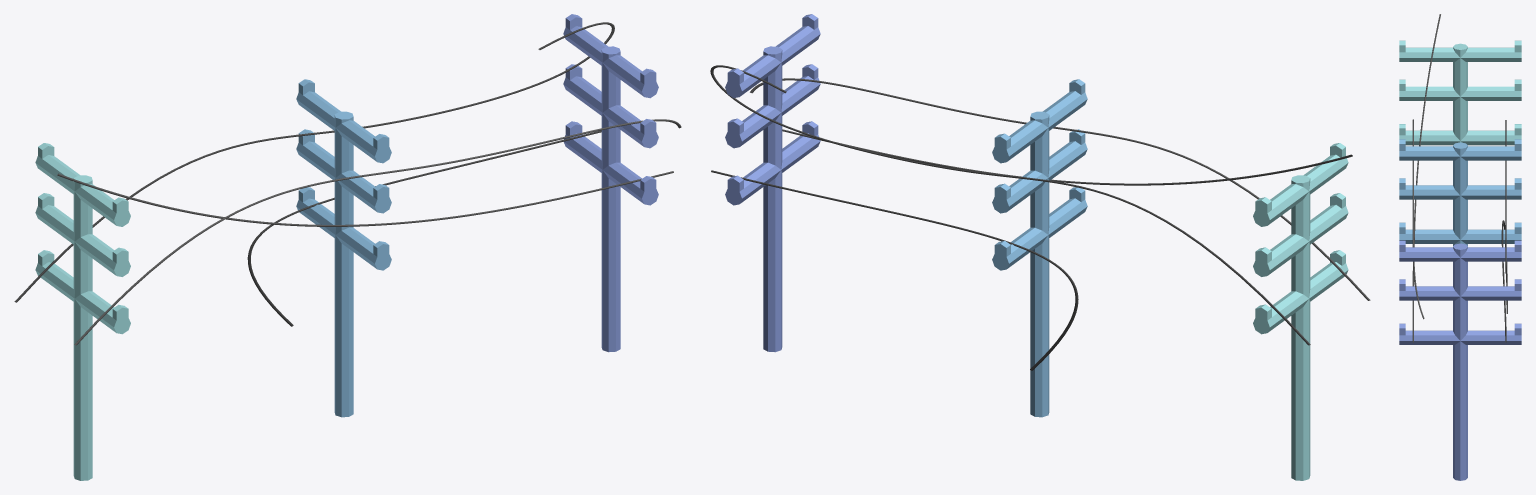
Rendered from direk.fbx.
The picture shows the model from 3 angles, left to right: view 1: azimuth 30°, elevation 25°; view 2: azimuth 150°, elevation 25°; view 3: azimuth 270°, elevation 25°; orthographic projection. The views are drawn at different scales.
Parts seen in each view (by area): view 1: Cylinder.002, Cylinder.004, Cylinder.009, NurbsPath.001, NurbsPath, NurbsPath.003, NurbsPath.002; view 2: Cylinder.002, Cylinder.009, Cylinder.004, NurbsPath.001, NurbsPath, NurbsPath.002, NurbsPath.003; view 3: Cylinder.004, Cylinder.009, Cylinder.002, NurbsPath.003, NurbsPath, NurbsPath.002, NurbsPath.001.
Part boxes in pixels (bbox=[...]): Cylinder.002: bbox=[296, 79, 391, 417]; Cylinder.004: bbox=[563, 14, 658, 352]; Cylinder.009: bbox=[35, 143, 130, 480]; NurbsPath.001: bbox=[14, 22, 614, 302]; NurbsPath: bbox=[74, 119, 681, 345]; NurbsPath.003: bbox=[57, 171, 673, 226]; NurbsPath.002: bbox=[247, 130, 601, 326]; Cylinder.002: bbox=[992, 79, 1087, 417]; Cylinder.009: bbox=[1253, 143, 1348, 480]; Cylinder.004: bbox=[725, 14, 820, 352]; NurbsPath.001: bbox=[710, 65, 1310, 345]; NurbsPath: bbox=[750, 78, 1370, 300]; NurbsPath.002: bbox=[711, 170, 1078, 370]; NurbsPath.003: bbox=[782, 129, 1352, 185]; Cylinder.004: bbox=[1399, 240, 1521, 480]; Cylinder.009: bbox=[1399, 40, 1521, 145]; Cylinder.002: bbox=[1399, 139, 1521, 245]; NurbsPath.003: bbox=[1412, 14, 1440, 342]; NurbsPath: bbox=[1412, 119, 1424, 319]; NurbsPath.002: bbox=[1501, 220, 1507, 342]; NurbsPath.001: bbox=[1505, 120, 1506, 273].
Bounding box in the file's own units: 721 × 361 × 160.
